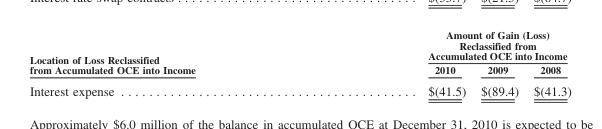table: (28, 28, 570, 98)
table column: (28, 28, 311, 98), (311, 28, 472, 98), (472, 28, 525, 98), (525, 28, 570, 98)
table column header: (28, 28, 570, 79)
table row: (28, 28, 570, 62), (28, 79, 570, 98), (28, 62, 570, 79)
table spanning cell: (28, 28, 311, 79), (311, 28, 570, 62)
